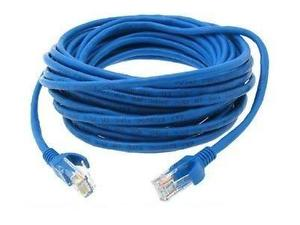Nonrec_Tangler: (25, 16, 267, 200)
